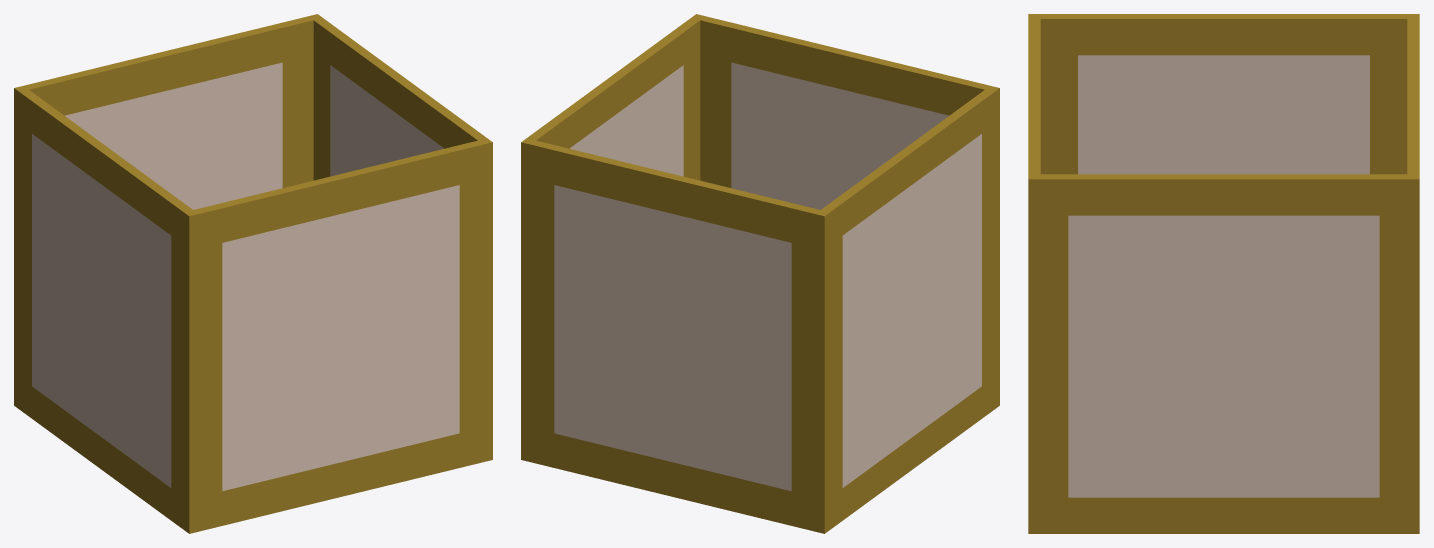
Rendered from Lantern3.fbx.
The picture shows the model from 3 angles, left to right: view 1: azimuth 30°, elevation 25°; view 2: azimuth 150°, elevation 25°; view 3: azimuth 270°, elevation 25°; orthographic projection. The views are drawn at different scales.
Visible parts, largest first — view 1: pCube4; view 2: pCube4; view 3: pCube4.
Boxes of the visible parts, x1=… form: pCube4: x1=14, y1=14, x2=492, y2=533; pCube4: x1=521, y1=14, x2=999, y2=533; pCube4: x1=1028, y1=14, x2=1419, y2=533.
Bounding box in the file's own units: 0.7947 × 0.7947 × 0.7947.
